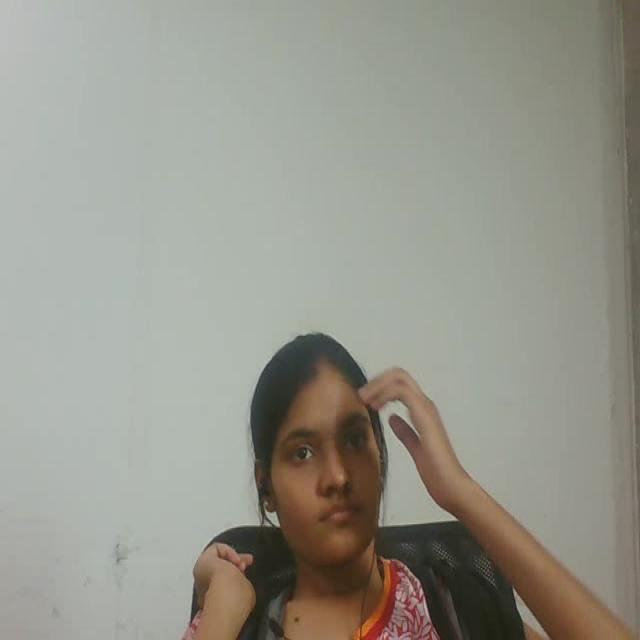Bored: (218, 297, 424, 581)
